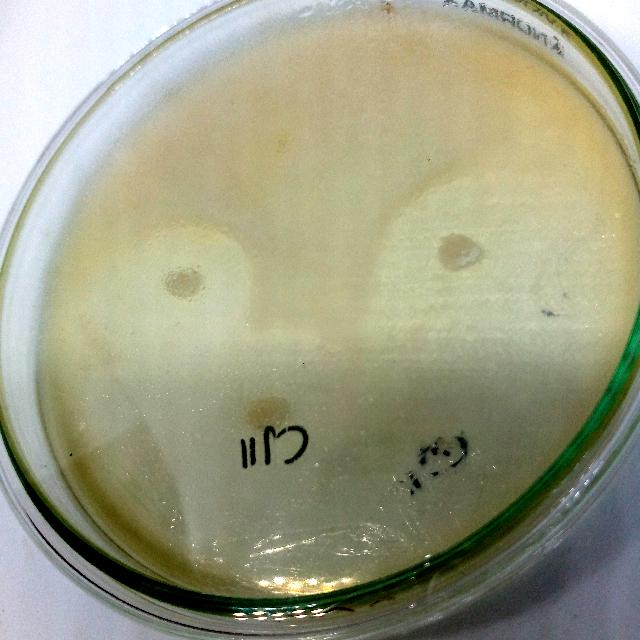colony: (428, 230, 486, 280), (242, 386, 292, 434), (160, 259, 208, 303)
